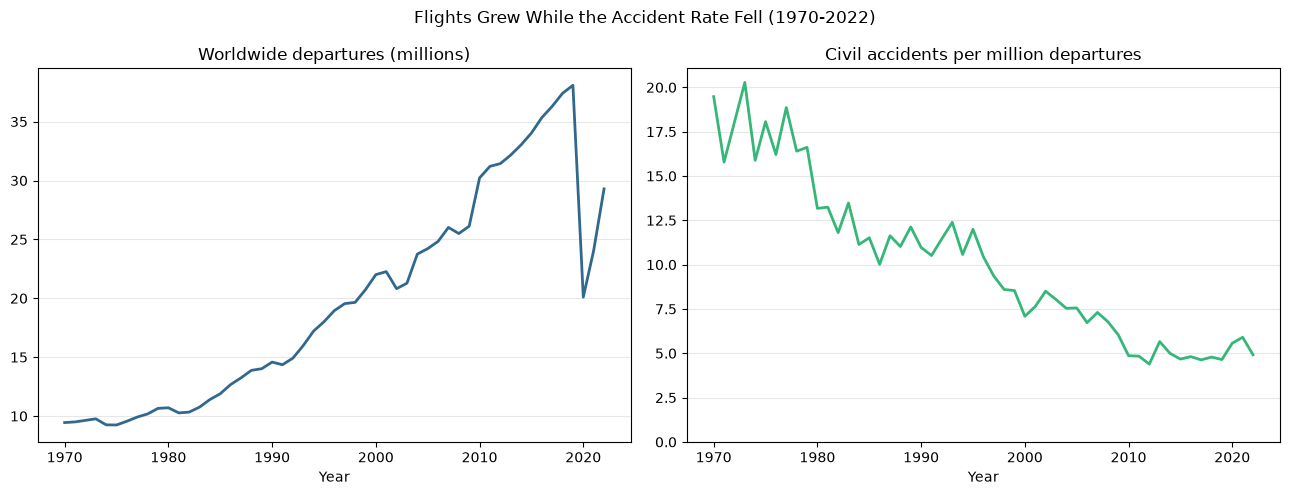

The dashboard page shown, as its layout file describes it:
{"tool":"tableau","page":{"name":"1 Accident rate","canvas":[1200,700],"ordinal":0},"visuals":[{"type":"worksheet","title":"Accident rate","mark":"Automatic","rows":["accidents_per_million_departures","accident_rate_trend"],"cols":["year"],"box":[8,8,957,643]},{"type":"text","box":[965,8,227,643]},{"type":"text","box":[8,651,1184,41]}]}

Visuals, with their boxes on the page's 1200x700 design canvas (x1, y1, x2, y2). These are canvas units, not pixel positions in the 1290x495 screenshot, which may show the page scaled, cropped or inside an application window:
"Accident rate" worksheet: 8:8:965:651
text: 965:8:1192:651
text: 8:651:1192:692
